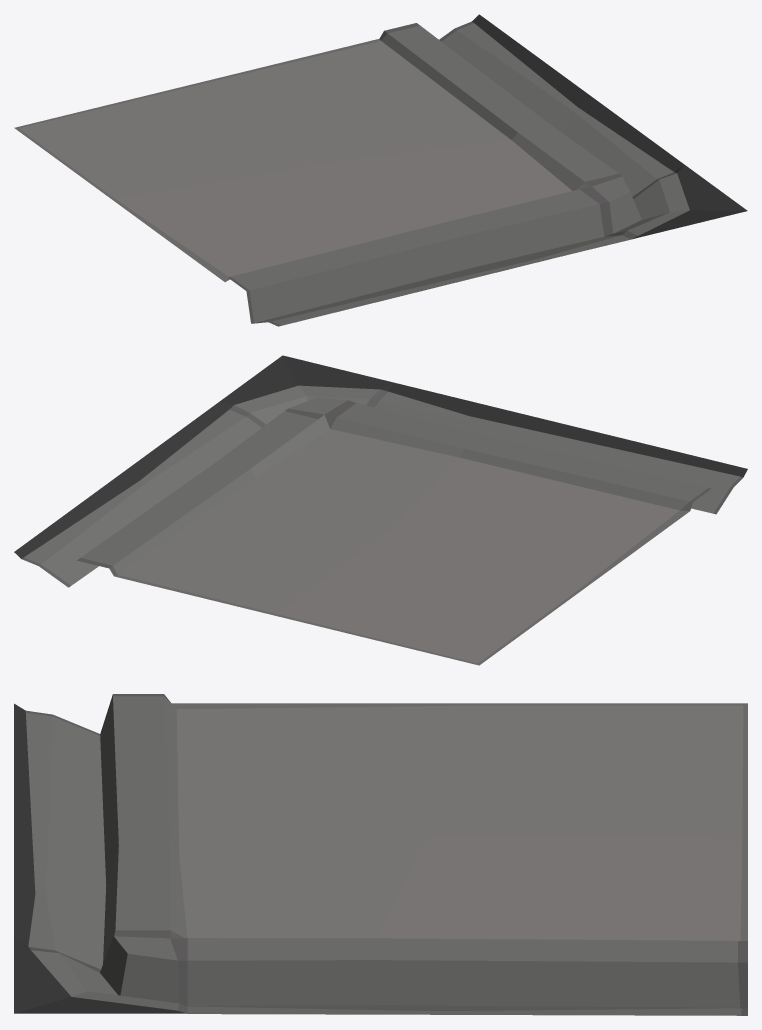
File: SM_Gen_Env_Sidewalk_Corner_01.glb
The picture shows the model from 3 angles, top to bottom: view 1: azimuth 30°, elevation 25°; view 2: azimuth 150°, elevation 25°; view 3: azimuth 270°, elevation 25°; orthographic projection. The views are drawn at different scales.
Parts seen in each view (by area): view 1: SM_Gen_Env_Sidewalk_Corner_012; view 2: SM_Gen_Env_Sidewalk_Corner_012; view 3: SM_Gen_Env_Sidewalk_Corner_012.
Part boxes in pixels (<box>): SM_Gen_Env_Sidewalk_Corner_012: <box>14,14,747,326</box>; SM_Gen_Env_Sidewalk_Corner_012: <box>14,355,747,665</box>; SM_Gen_Env_Sidewalk_Corner_012: <box>14,694,747,1015</box>.
Size of the model in its own units: 2.5 by 0.15 by 2.5.
1 material, 1 textured.
